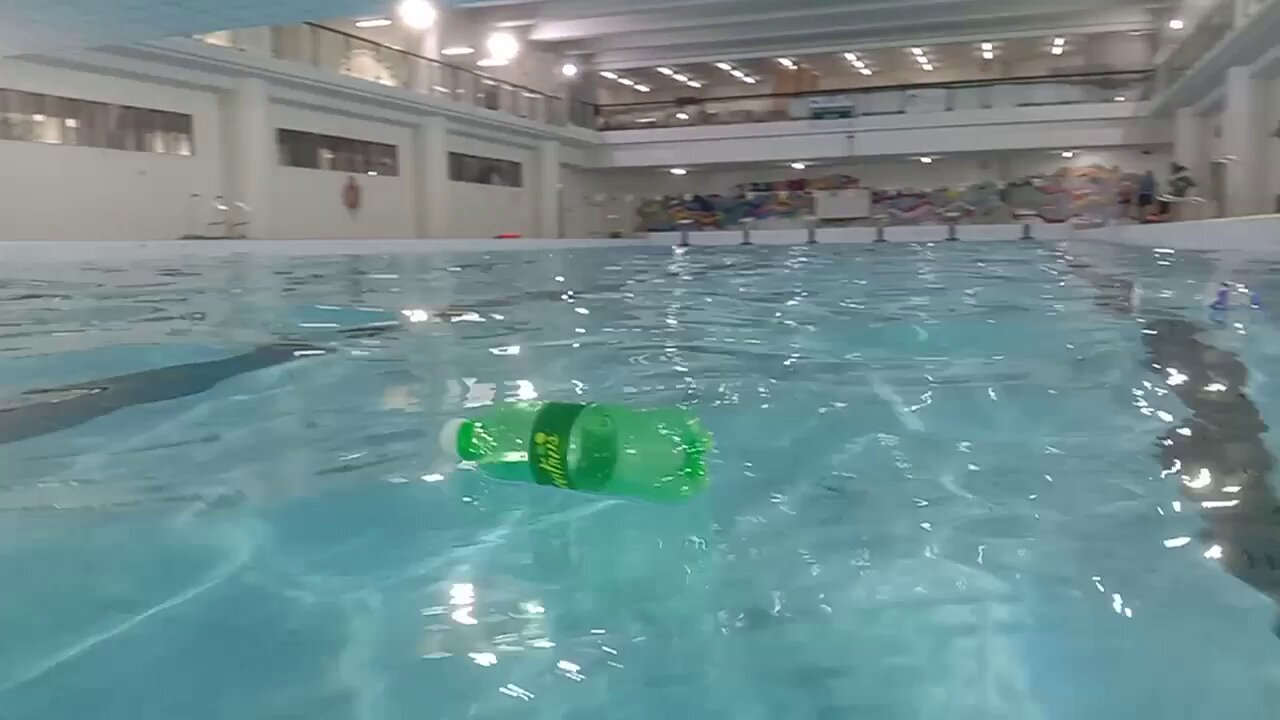plastic_bottle: (440, 405, 714, 509), (1128, 271, 1270, 322)
